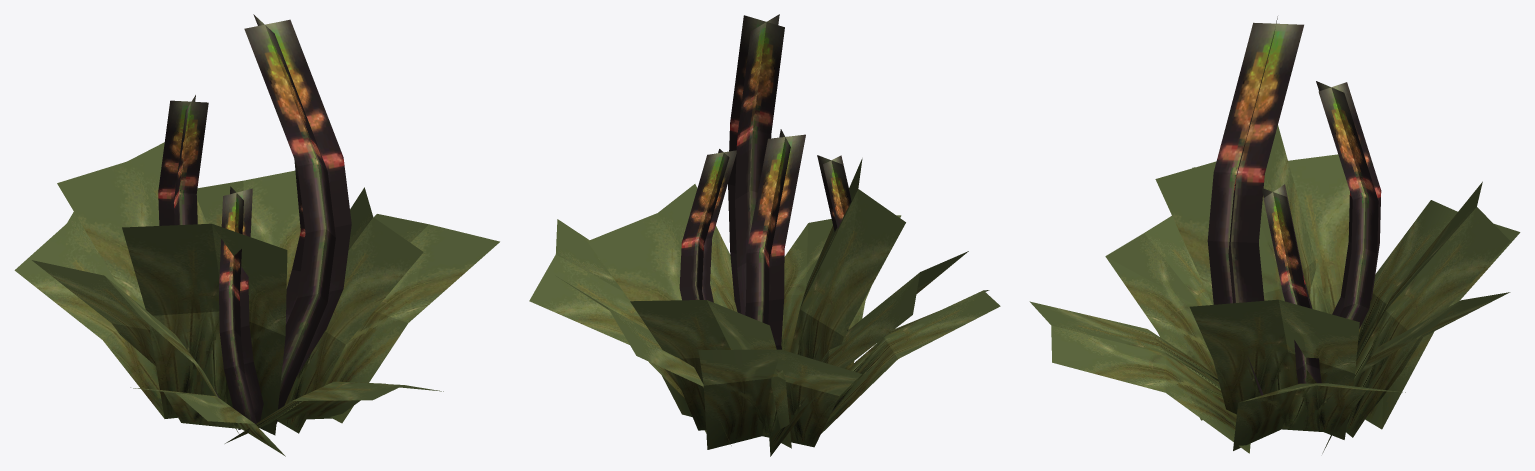
File: bg_anh_foliage_te_b68_sm_old.FBX
The picture shows the model from 3 angles, left to right: view 1: azimuth 30°, elevation 25°; view 2: azimuth 150°, elevation 25°; view 3: azimuth 270°, elevation 25°; orthographic projection. The views are drawn at different scales.
Parts seen in each view (by area): view 1: bg_anh_foliage_te_b68_sm_old; view 2: bg_anh_foliage_te_b68_sm_old; view 3: bg_anh_foliage_te_b68_sm_old.
Boxes of the visible parts, <box> form: bg_anh_foliage_te_b68_sm_old: <box>14,14,499,456</box>; bg_anh_foliage_te_b68_sm_old: <box>529,14,1000,456</box>; bg_anh_foliage_te_b68_sm_old: <box>1029,16,1520,453</box>.
Bounding box in the file's own units: 125 × 116 × 127.
